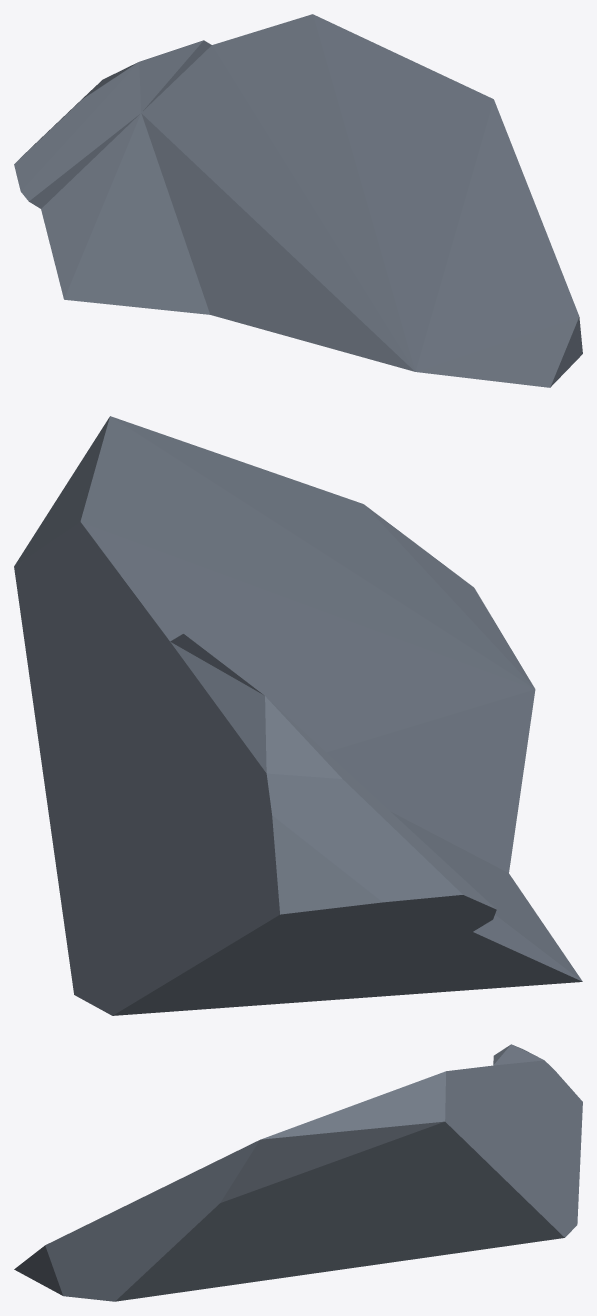
File: WallPiece5.fbx
The picture shows the model from 3 angles, top to bottom: view 1: azimuth 30°, elevation 25°; view 2: azimuth 150°, elevation 25°; view 3: azimuth 270°, elevation 25°; orthographic projection. The views are drawn at different scales.
Visible parts, largest first — view 1: WallPiece5; view 2: WallPiece5; view 3: WallPiece5.
Boxes of the visible parts, left/top/right/bottom form: WallPiece5: left=14, top=14, right=582, bottom=387; WallPiece5: left=14, top=416, right=582, bottom=1015; WallPiece5: left=14, top=1044, right=582, bottom=1301.
Bounding box in the file's own units: 131 × 73.91 × 195.
